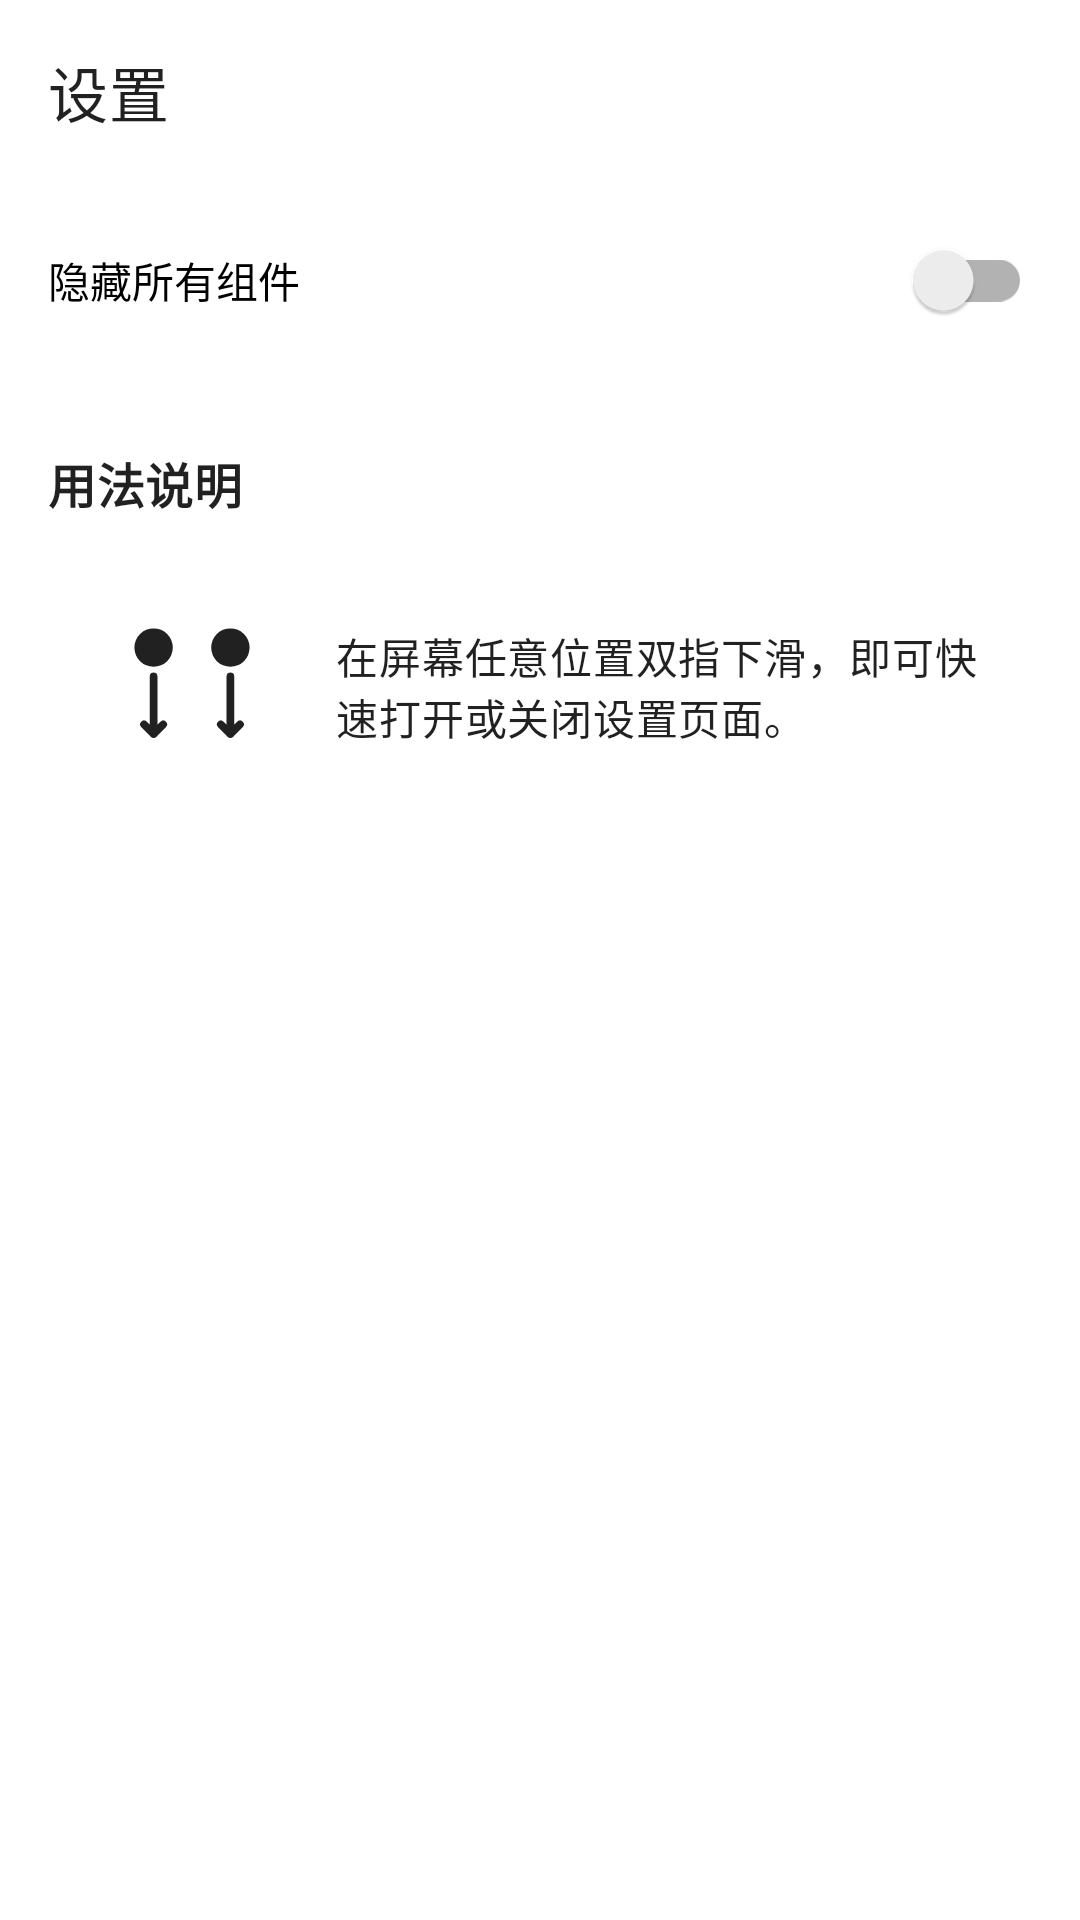

Icon click points for this 1080x1920 phone screenshot, format (x=x, y=y):
双指下滑手势: (x=192, y=683)
